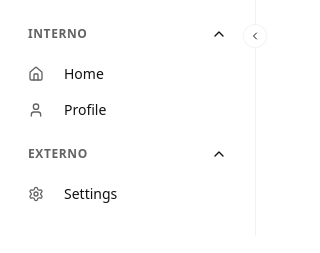
Sidebar › Dropdowns › dropdown works when sidebar is collapsed
Click the 2nd button.
click(255, 36)  # box [243,24,267,48]
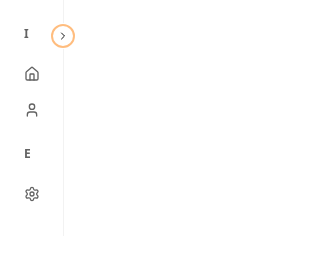
Expected: the button titled "Home" is shown, [16,56,47,92]
Click the button "I".
click(32, 34)  # box [16,16,47,52]
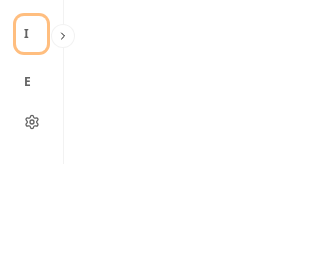
Now the button titled "Home" is gone
Now the button titled "Profile" is gone
Click again to expand
Click the button "I".
click(32, 34)  # box [16,16,47,52]
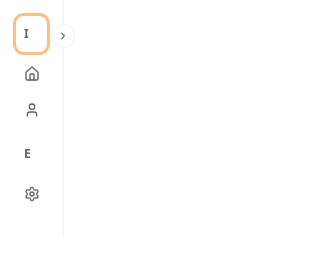
Now the button titled "Home" is shown, box [16,56,47,92]
Now the button titled "Profile" is shown, box [16,92,47,128]
